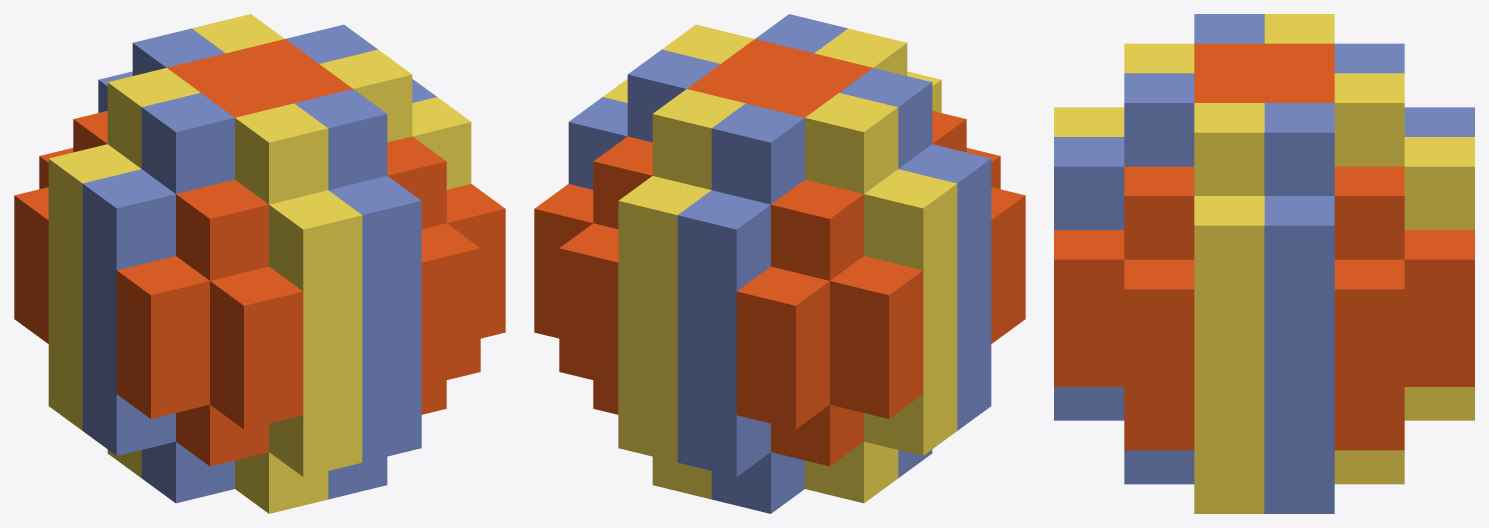
The model's file is id-beach-beachball.obj.
3 renders of one model, left to right at view 1: azimuth 30°, elevation 25°; view 2: azimuth 150°, elevation 25°; view 3: azimuth 270°, elevation 25°, orthographic. The views are drawn at different scales.
Size of the model in its own units: 6 by 6 by 6.
Materials: 1 (1 with a texture image).
